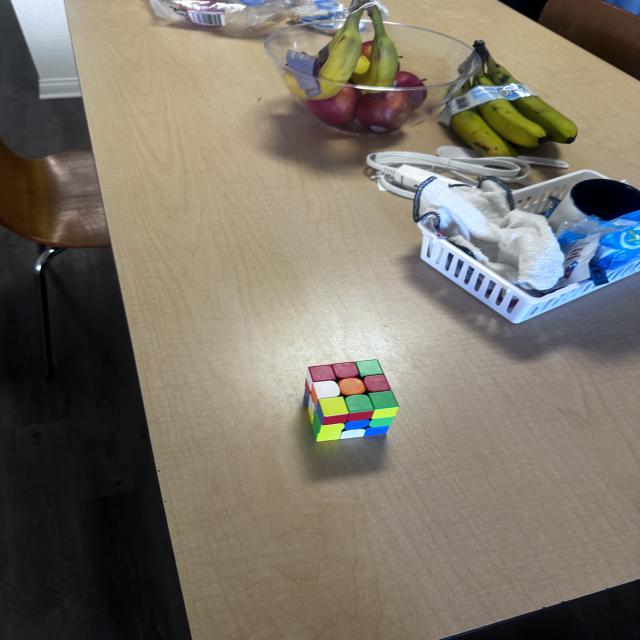sticker: (318, 396, 349, 423), (344, 393, 374, 418), (367, 390, 399, 413), (311, 380, 341, 404), (308, 364, 336, 384), (316, 422, 345, 441), (339, 377, 366, 396), (364, 374, 391, 393), (356, 360, 384, 378), (332, 362, 360, 379), (371, 406, 399, 420), (346, 409, 374, 423), (321, 412, 348, 426), (319, 420, 345, 433), (363, 426, 390, 438), (369, 416, 395, 428), (344, 419, 370, 430), (340, 428, 366, 439), (312, 412, 323, 434), (310, 384, 320, 406)
